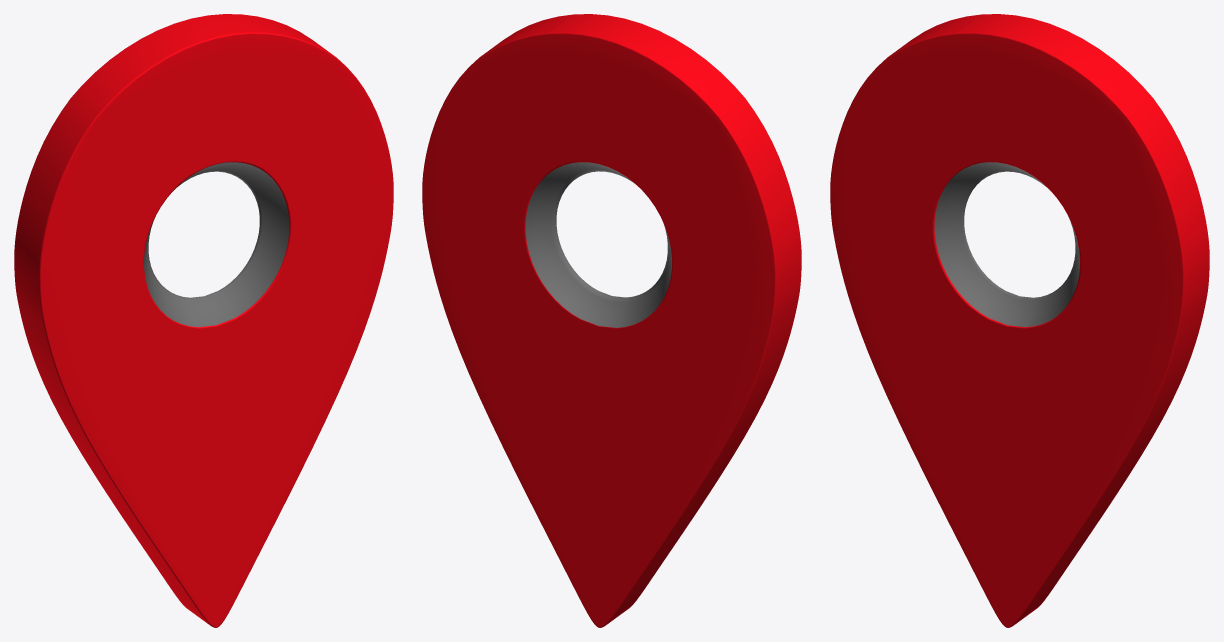
Rendered from pointer.fbx.
The picture shows the model from 3 angles, left to right: view 1: azimuth 30°, elevation 25°; view 2: azimuth 150°, elevation 25°; view 3: azimuth 330°, elevation 25°; orthographic projection.
Visible parts, largest first — view 1: Plane; view 2: Plane; view 3: Plane.
Boxes of the visible parts, x1,y1,x2,y2 form: Plane: (14, 14, 393, 627); Plane: (422, 14, 801, 627); Plane: (830, 14, 1209, 627).
Size of the model in its own units: 176 by 280 by 22.7.
